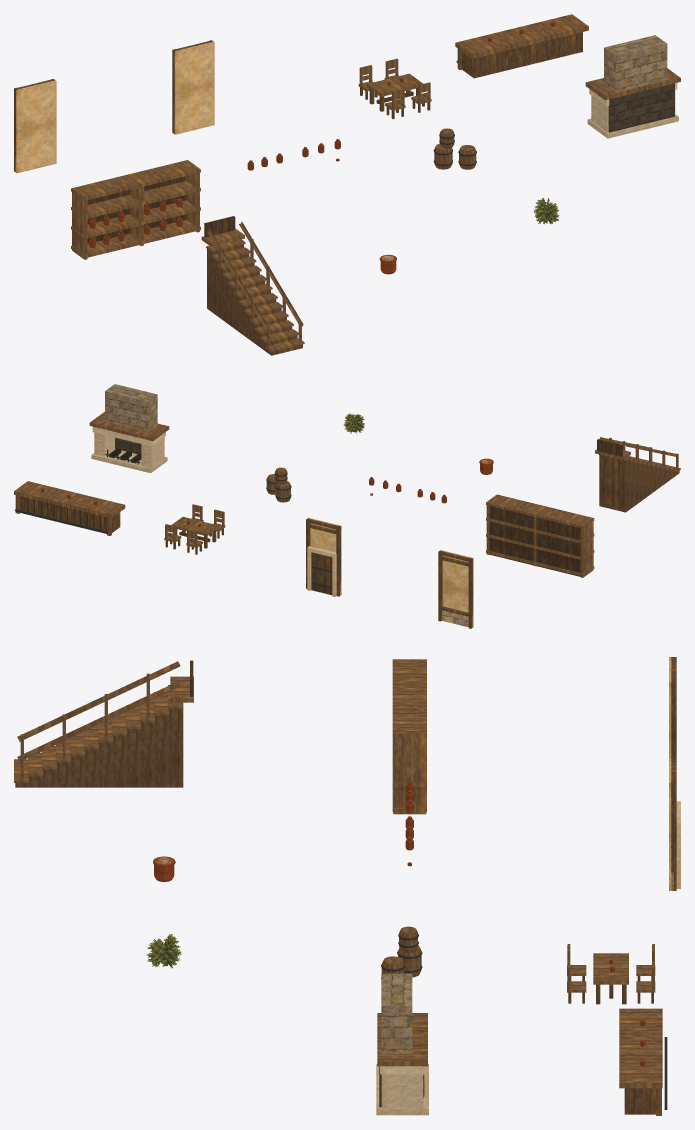
File: sanctuary-inn.glb
3 renders of one model, top to bottom at view 1: azimuth 30°, elevation 25°; view 2: azimuth 150°, elevation 25°; view 3: azimuth 270°, elevation 25°, orthographic. The views are drawn at different scales.
Visible parts, largest first — view 1: shelves-opaque-0, stairs-opaque-0, hearth-opaque-0, bar-opaque-0, exit-door-opaque-0, wall-opaque-0, table-group-opaque-0, barrels-opaque-0; view 2: shelves-opaque-0, hearth-opaque-0, stairs-opaque-0, bar-opaque-0, exit-door-opaque-0, wall-opaque-0, table-group-opaque-0, barrels-opaque-0; view 3: stairs-opaque-0, hearth-opaque-0, shelves-opaque-0, bar-opaque-0, table-group-opaque-0, exit-door-opaque-0, barrels-opaque-0, plant-foliage-0, wall-opaque-0.
Boxes of the visible parts, x1,y1,x2,y2 form: shelves-opaque-0: (71,160,200,259); stairs-opaque-0: (201,216,304,355); hearth-opaque-0: (585,35,680,138); bar-opaque-0: (455,14,588,78); exit-door-opaque-0: (172,40,214,134); wall-opaque-0: (14,79,56,173); table-group-opaque-0: (358,58,431,118); barrels-opaque-0: (433,128,476,169); shelves-opaque-0: (486,494,594,577); hearth-opaque-0: (89,384,169,473); stairs-opaque-0: (595,437,680,512); bar-opaque-0: (14,481,125,535); exit-door-opaque-0: (306,517,341,596); wall-opaque-0: (438,550,473,628); table-group-opaque-0: (164,504,225,554); barrels-opaque-0: (266,467,291,502); stairs-opaque-0: (14,660,193,787); hearth-opaque-0: (376,973,428,1115); shelves-opaque-0: (392,659,426,814); bar-opaque-0: (619,1008,667,1115); table-group-opaque-0: (567,944,655,1004); exit-door-opaque-0: (669,757,680,890); barrels-opaque-0: (381,926,422,978); plant-foliage-0: (147,934,181,968); wall-opaque-0: (669,657,676,757).
Size of the model in its own units: 14.95 by 2 by 11.19.
Materials: 2 (2 with a texture image).
